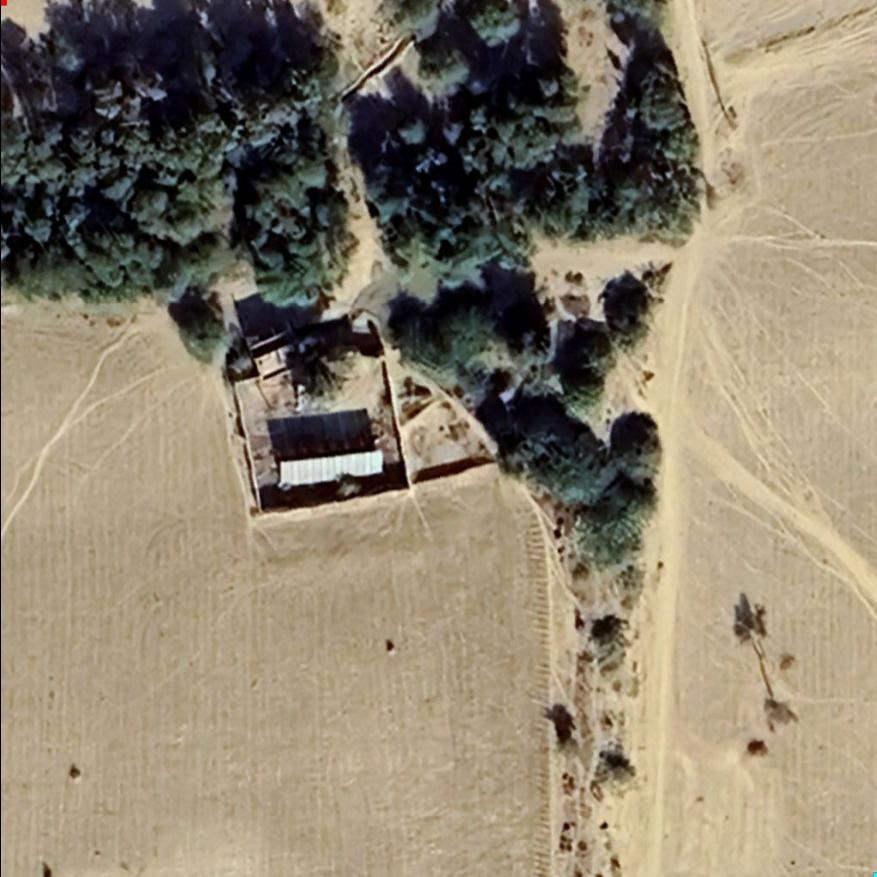Solarpanel: (270, 448, 390, 490)
